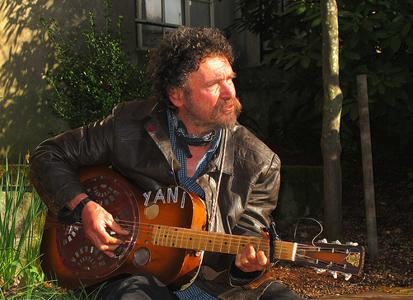person: (28, 26, 302, 299)
